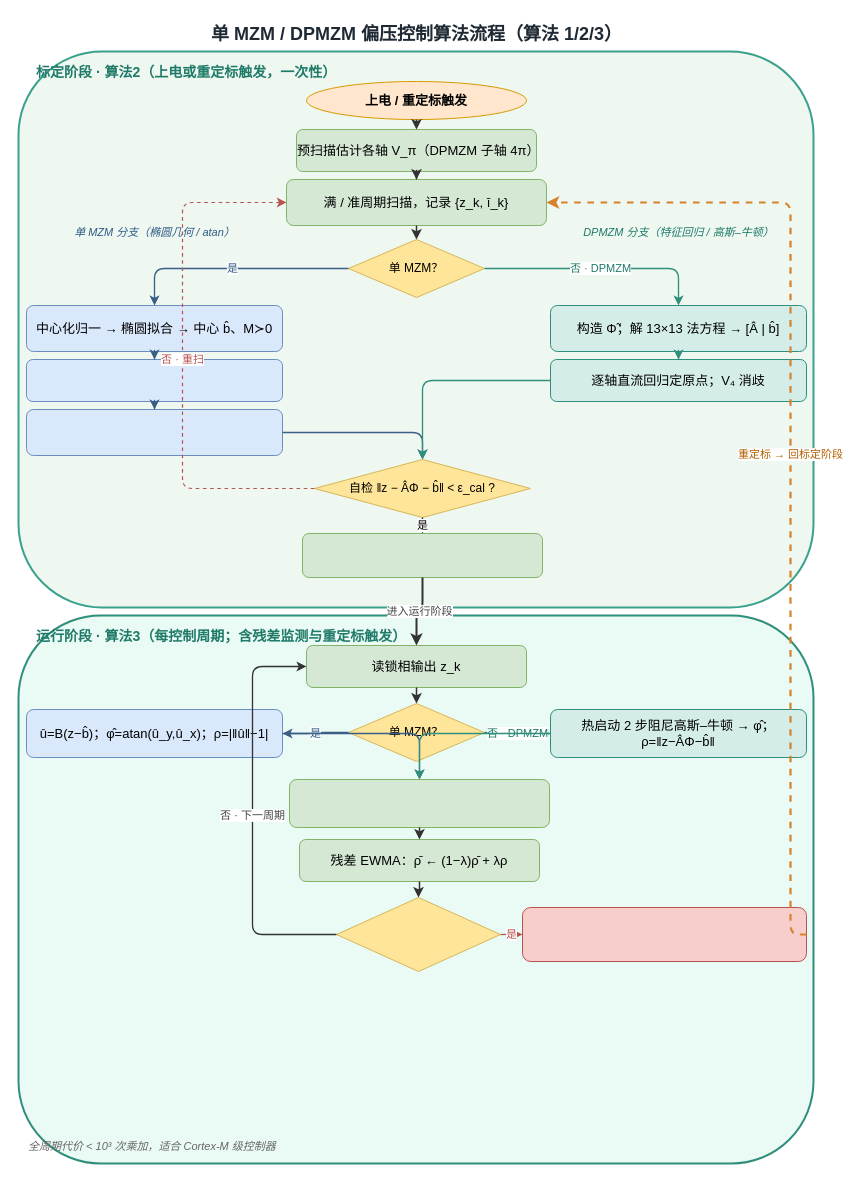
This 860x1181 diagram has some shape labels left out. Here are the shapes that lost their labels. From the top down, the centre of each, then its label:
At point (154, 380): "B₀=M^½；环绕方向定反射 F".
At point (154, 432): "直流回归定 φ_c；B=R(−φ_c)·F·B₀".
At point (422, 555): "记录残差统计 → 阈值 ρ_th = μ + k·σ".
At point (419, 803): "e=wrap(φ̂−φ*)；PI：V←V−G·e·V_π/π → DAC".
At point (418, 934): "ρ̄ > ρ_th 连续 M 周期？".
At point (664, 934): "保持当前 V，执行微幅弧重定标 （DPMZM 优先激励 s₁s₂ 子空间）".
